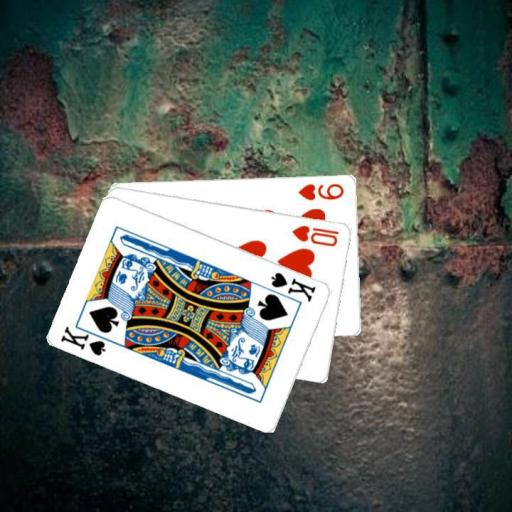10H: (290, 221, 341, 248)
9H: (295, 180, 346, 201)
KS: (58, 321, 116, 357), (268, 269, 318, 303)
